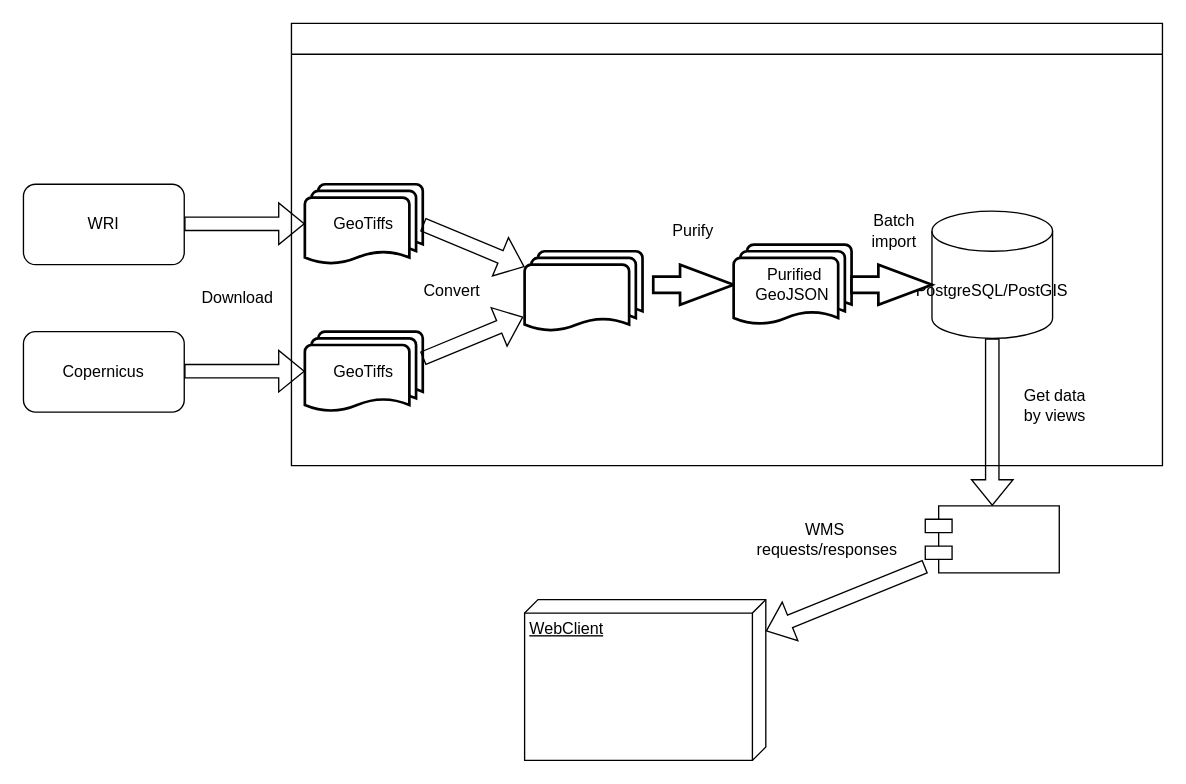
This 1186x784 diagram has some shape labels left out. Each missing label, with the box of its shape:
GeoJSON: (523, 249, 643, 332)
GeoServer: (924, 505, 1059, 573)
System: (290, 22, 1162, 466)
